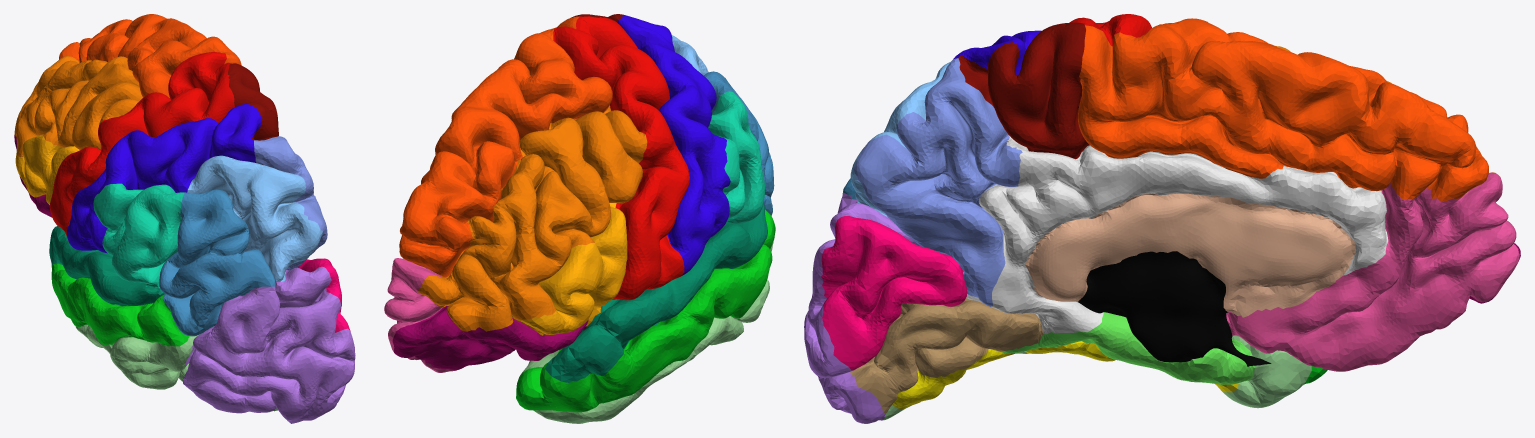
File: cerebro-draco.glb
The picture shows the model from 3 angles, left to right: view 1: azimuth 30°, elevation 25°; view 2: azimuth 150°, elevation 25°; view 3: azimuth 270°, elevation 25°; orthographic projection. The views are drawn at different scales.
Visible parts, largest first — view 1: Occipital Lobe, Parietal Lobe, Parietal Lobe2, Pre Central, Post Central, Superior Frontal, Supra Marginal, Middle Frontal Gyrus, Middle Temporal, Occipital2, Superior Temporal, Inferior Temporal2 (+19 smaller); view 2: Superior Frontal, Middle Frontal Gyrus, Pre Central, Middle Temporal, Superior Temporal, Post Central, Middle Frontal Gyrus3, Lateral Orbital Frontal Cortex, Supra Marginal, Inferior Frontal Gyrus3, Inferior Frontal Gyrus2, PreCentral3 (+15 smaller); view 3: Superior Frontal, Unmeasured Corpus Callosum, PreCuneus, Medial Orbital Frontal, Cuneus, Unlabelled Subcortical Region, ParaCentral Lobule, Lingual, Cingulate Gyrus6, Cingulate Gyrus, Occipital Lobe, Cingulate Gyrus4 (+22 smaller).
Boxes of the visible parts, x1,y1,x2,y2 form: Occipital Lobe: (183,266,355,423); Parietal Lobe: (187,155,322,281); Parietal Lobe2: (159,209,251,336); Pre Central: (49,63,234,236); Post Central: (67,103,262,253); Superior Frontal: (59,14,241,97); Supra Marginal: (93,183,184,294); Middle Frontal Gyrus: (14,55,139,156); Middle Temporal: (51,263,189,346); Occipital2: (193,289,276,361); Superior Temporal: (49,226,165,306); Inferior Temporal2: (75,324,198,374); Superior Frontal: (399,16,612,277); Middle Frontal Gyrus: (418,117,610,331); Pre Central: (580,16,689,307); Middle Temporal: (540,209,775,412); Superior Temporal: (545,204,767,382); Post Central: (618,14,729,275); Middle Frontal Gyrus3: (575,106,647,202); Lateral Orbital Frontal Cortex: (392,306,515,370); Supra Marginal: (708,91,765,224); Inferior Frontal Gyrus3: (538,243,605,313); Inferior Frontal Gyrus2: (585,203,627,326); PreCentral3: (553,16,620,91); Superior Frontal: (1078,18,1488,202); Unmeasured Corpus Callosum: (1025,193,1355,317); PreCuneus: (887,79,1022,306); Medial Orbital Frontal: (1226,188,1477,371); Cuneus: (821,216,967,350); Unlabelled Subcortical Region: (1078,251,1237,362); ParaCentral Lobule: (1013,22,1089,159); Lingual: (850,298,988,413); Cingulate Gyrus6: (978,136,1096,265); Cingulate Gyrus: (1057,145,1203,216); Occipital Lobe: (804,201,919,423); Cingulate Gyrus4: (1299,171,1388,275).
Size of the model in its own units: 5076 by 8329 by 13000.
